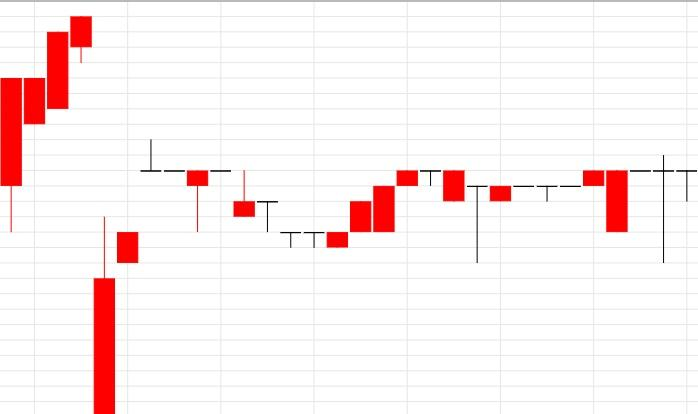hanging_man_fall: (94, 140, 209, 413)
inverse_hammer_rise: (140, 140, 255, 232)
